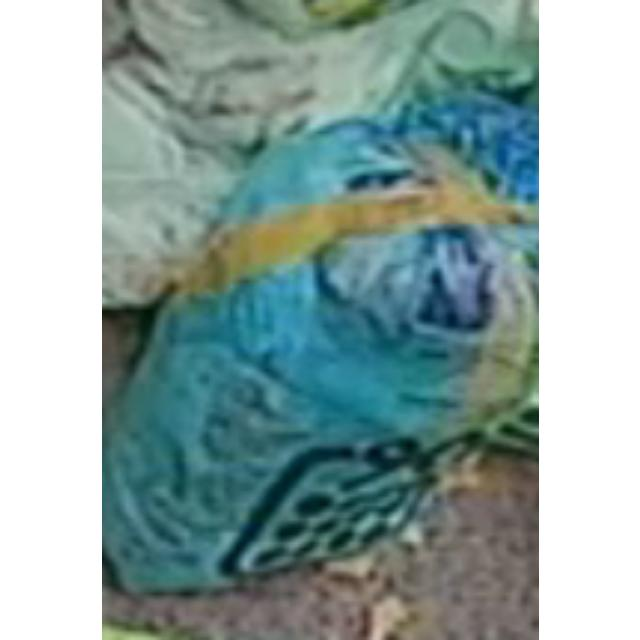general_trashbag: (105, 93, 535, 591)
